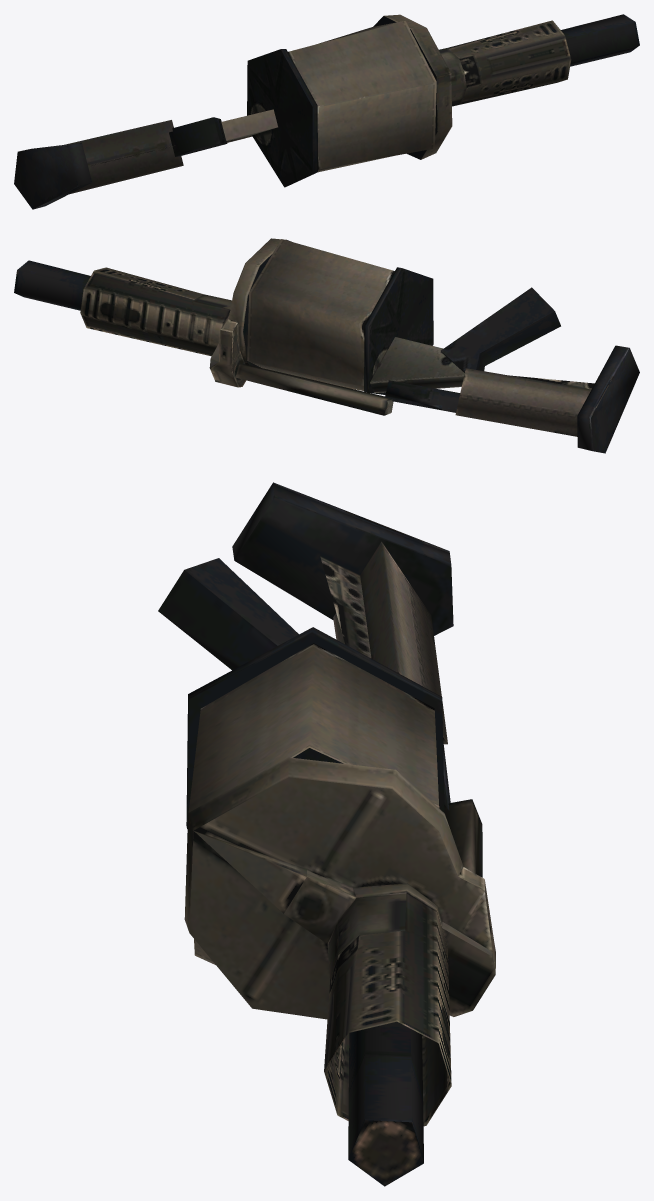
File: Pickup_M1201.glb
The picture shows the model from 3 angles, top to bottom: view 1: azimuth 30°, elevation 25°; view 2: azimuth 150°, elevation 25°; view 3: azimuth 270°, elevation 25°; orthographic projection. The views are drawn at different scales.
Visible parts, largest first — view 1: pk_m12_01; view 2: pk_m12_01; view 3: pk_m12_01.
Part boxes in pixels (<box>): pk_m12_01: <box>14,14,639,209</box>; pk_m12_01: <box>14,238,639,453</box>; pk_m12_01: <box>158,482,495,1186</box>.
Size of the model in its own units: 1.46 by 0.32 by 0.3638.
Materials: 1 (1 with a texture image).
